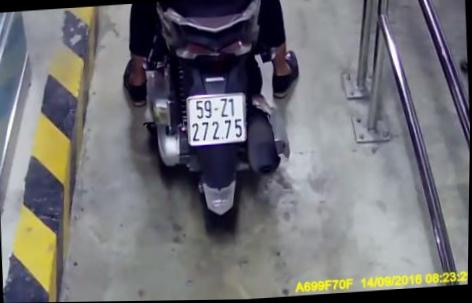LP: (184, 91, 251, 149)
